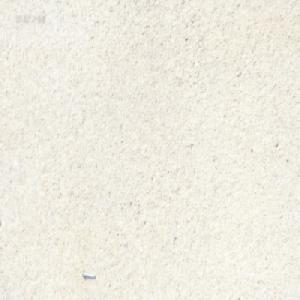Nail: (81, 269, 96, 279)
